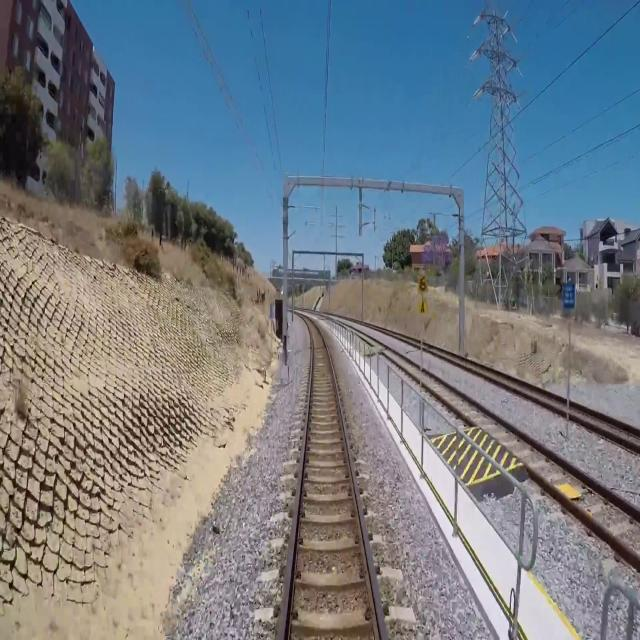rail-track: (362, 335, 640, 555), (285, 319, 381, 639), (425, 345, 566, 408), (569, 403, 640, 443)
